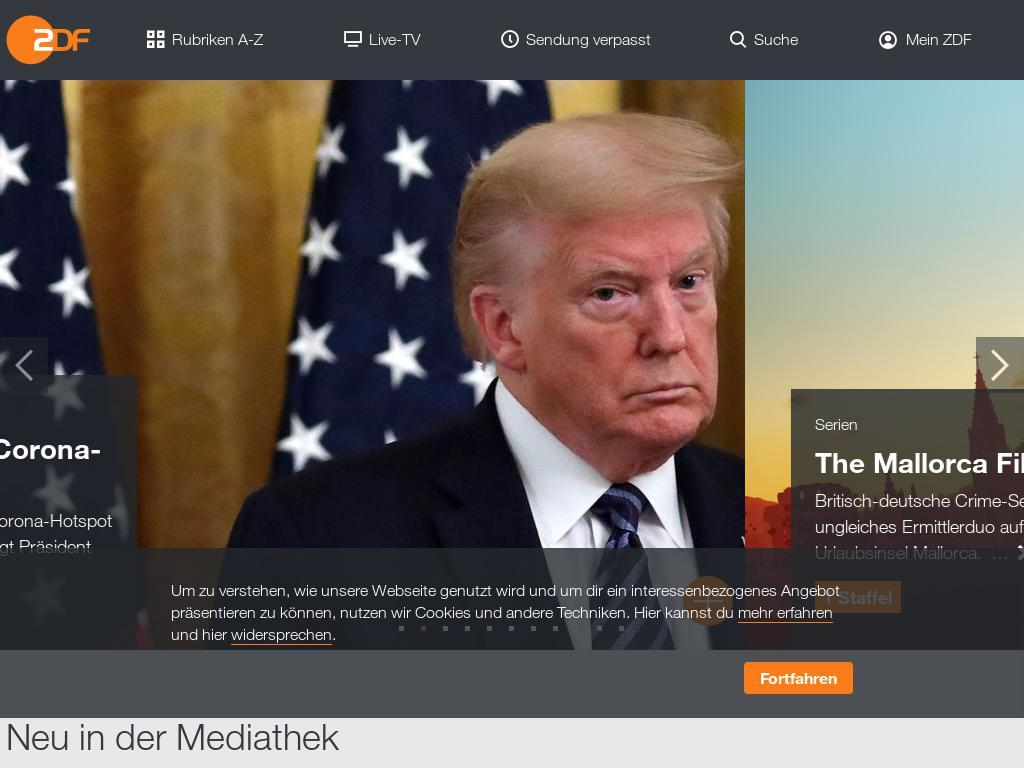button: (0, 80, 1024, 650), (500, 15, 671, 65), (878, 15, 1024, 65), (146, 15, 283, 65), (343, 15, 440, 65), (728, 15, 818, 65), (6, 15, 91, 65), (744, 662, 854, 694), (962, 576, 1012, 626), (230, 625, 332, 645), (737, 603, 833, 623)
heading: (70, 431, 380, 499), (6, 714, 339, 759), (6, 15, 90, 65), (121, 399, 229, 423), (70, 399, 111, 423), (111, 399, 121, 423)
image: (962, 576, 1000, 614)
text: (170, 581, 840, 622), (70, 509, 391, 583), (906, 15, 972, 65), (526, 30, 651, 49), (172, 30, 263, 49), (170, 625, 231, 644), (369, 30, 420, 49), (94, 601, 144, 618), (754, 30, 798, 49), (138, 561, 156, 583), (331, 625, 336, 644)
